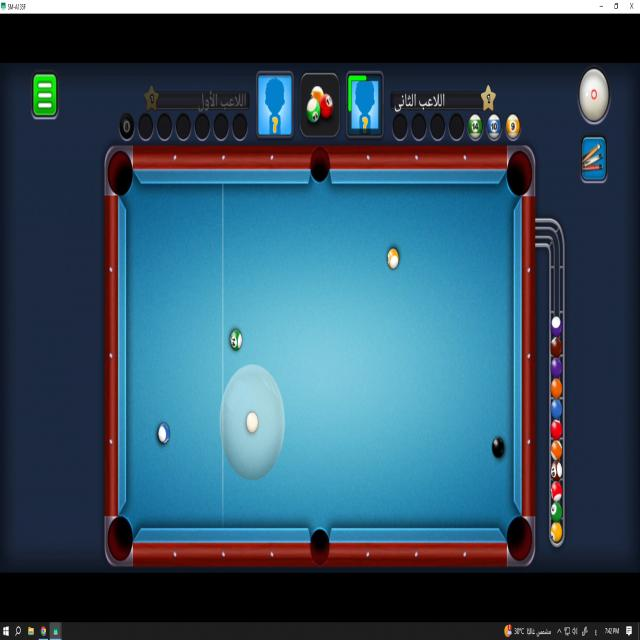object_ball: (230, 330, 242, 350), (492, 437, 504, 457), (387, 248, 398, 269), (158, 423, 169, 443)
white_cue_ball: (246, 412, 258, 433)
